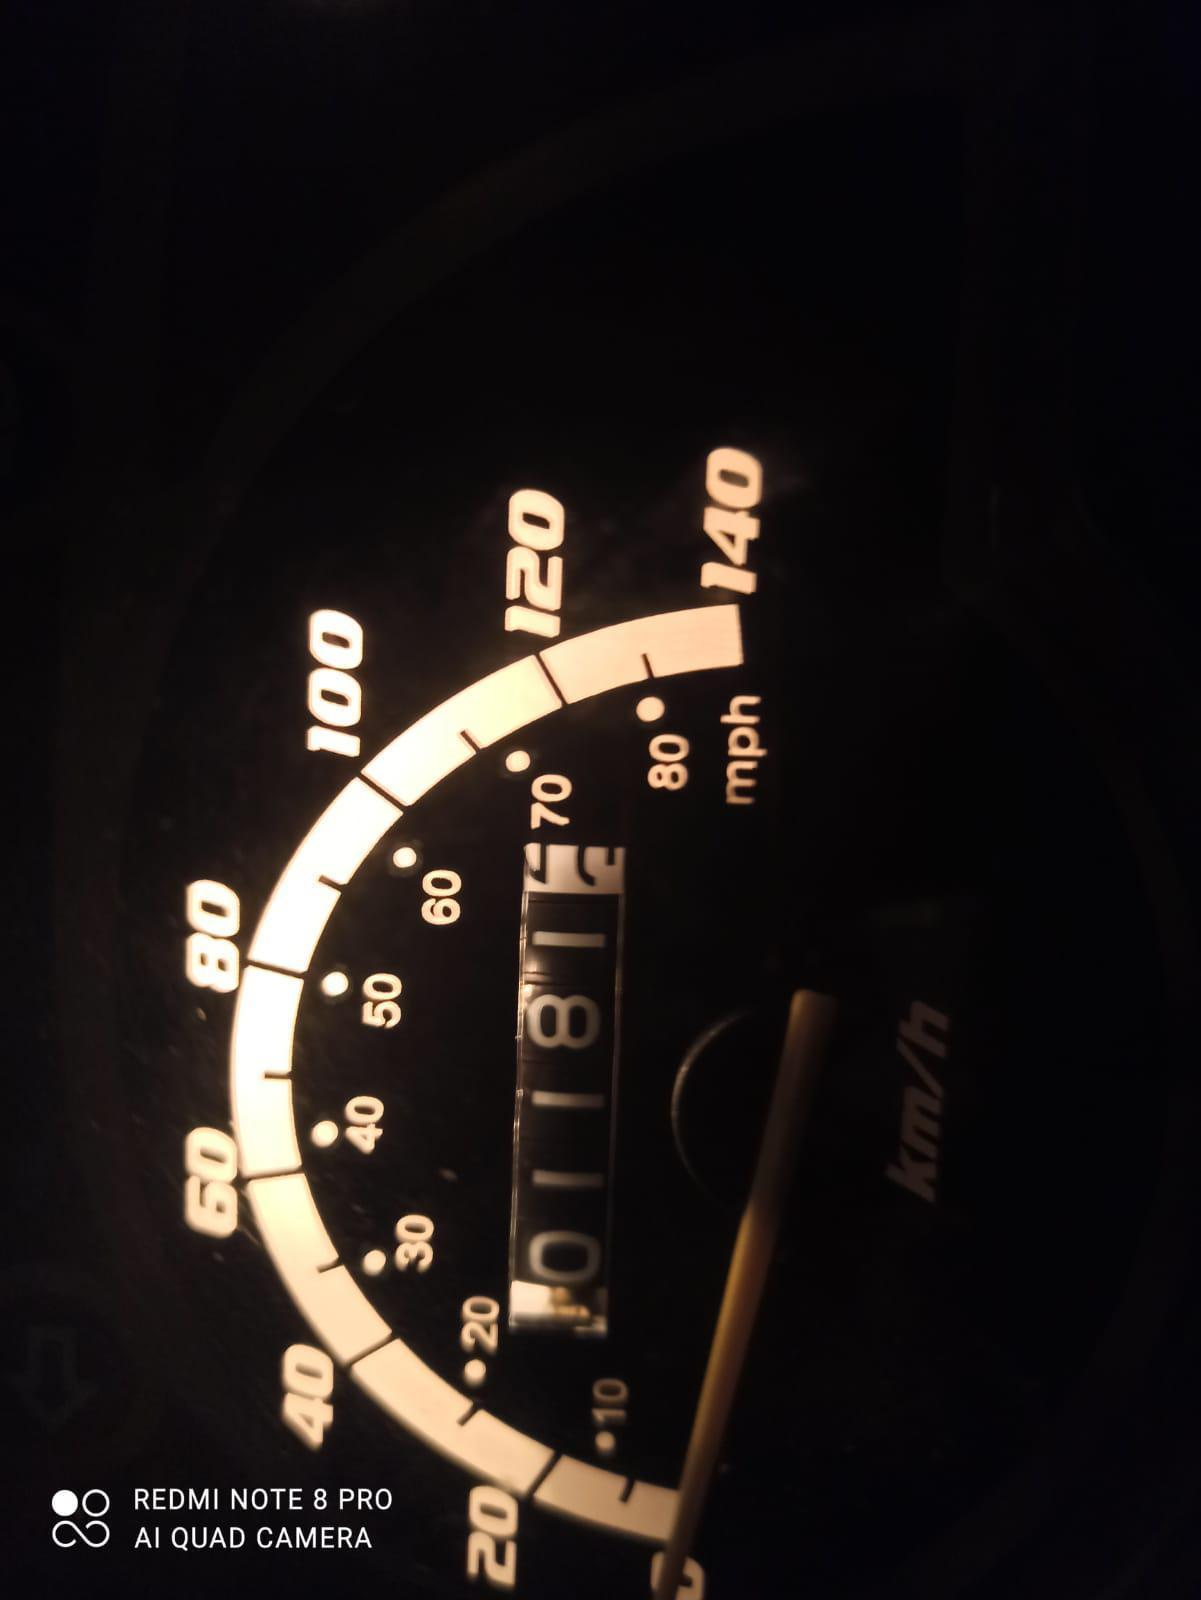0: (522, 1228, 600, 1288)
1: (513, 1078, 621, 1122), (518, 1155, 624, 1197), (516, 925, 619, 956)
3: (568, 837, 635, 890)
8: (521, 985, 613, 1056)
odometer: (508, 826, 638, 1360)
